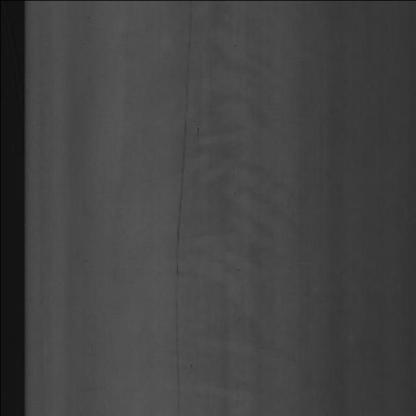inclusion: (168, 10, 196, 396)
